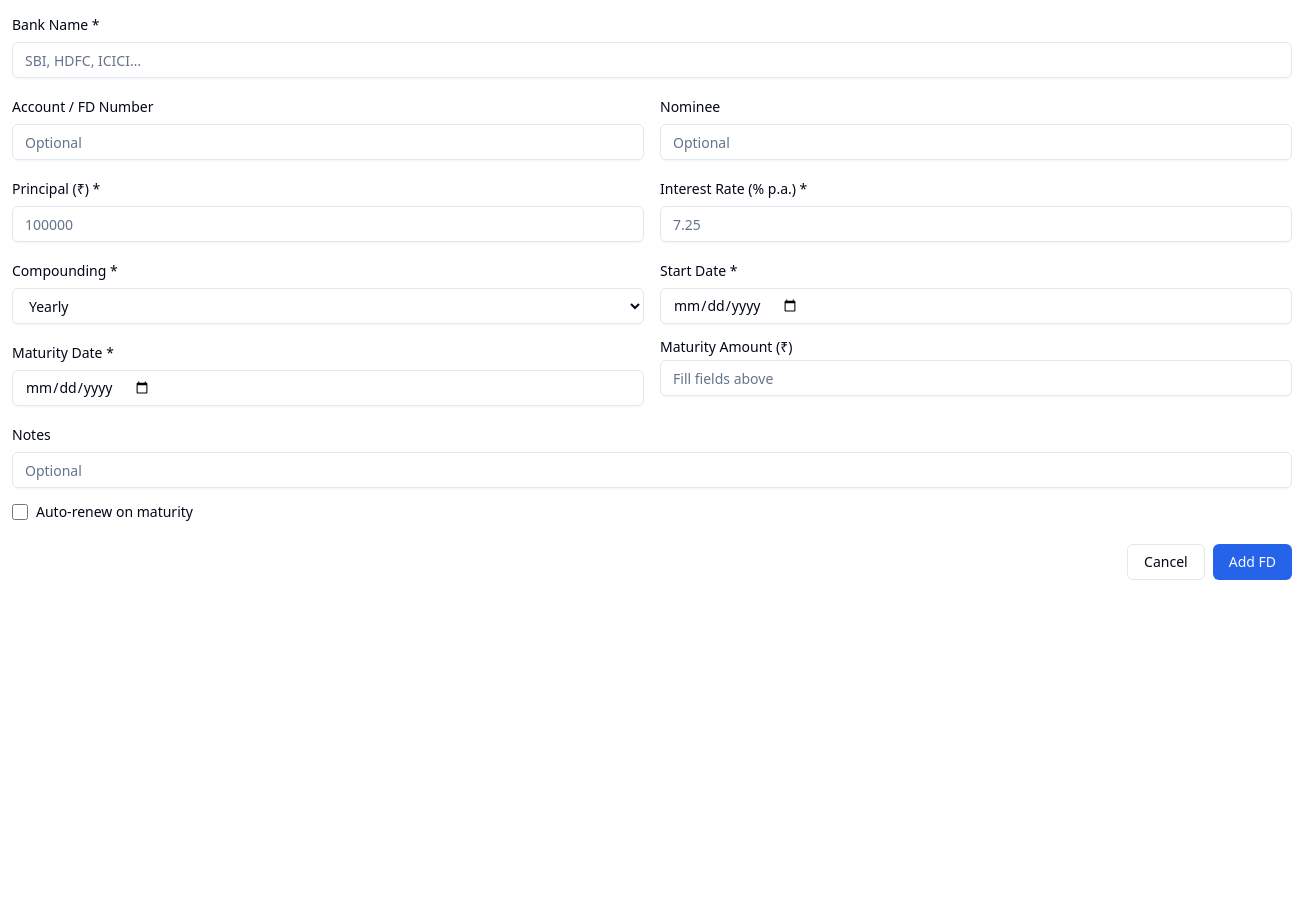
Scenario: FDForm › submit with empty required fields shows validation errors
The image size is (1304, 912).
Click the button "Add FD": (1252, 562) x1=1213 y1=544 x2=1292 y2=580
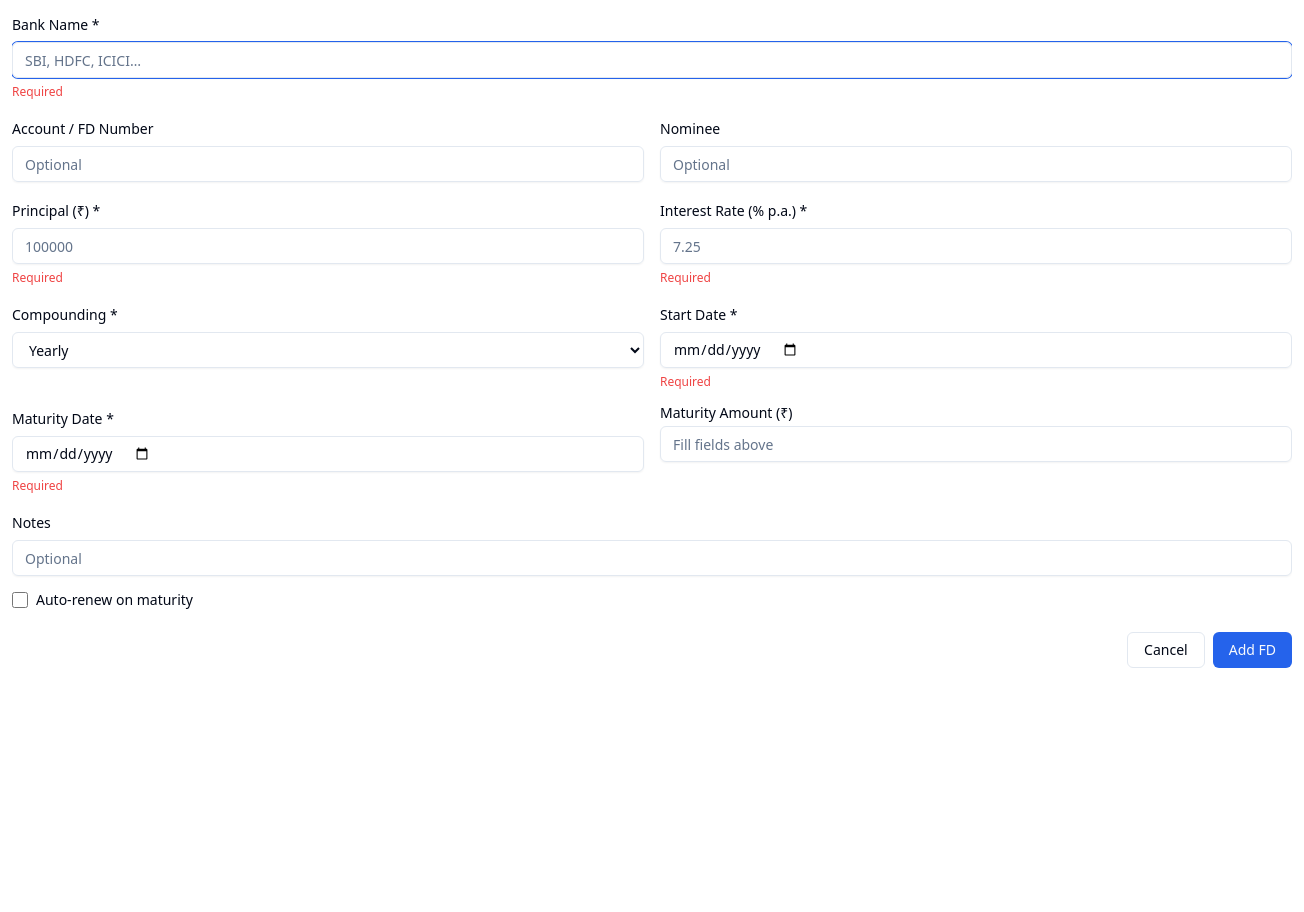
expect the text "Required" below "Bank Name *" is shown: met, box x1=12 y1=83 x2=63 y2=100
